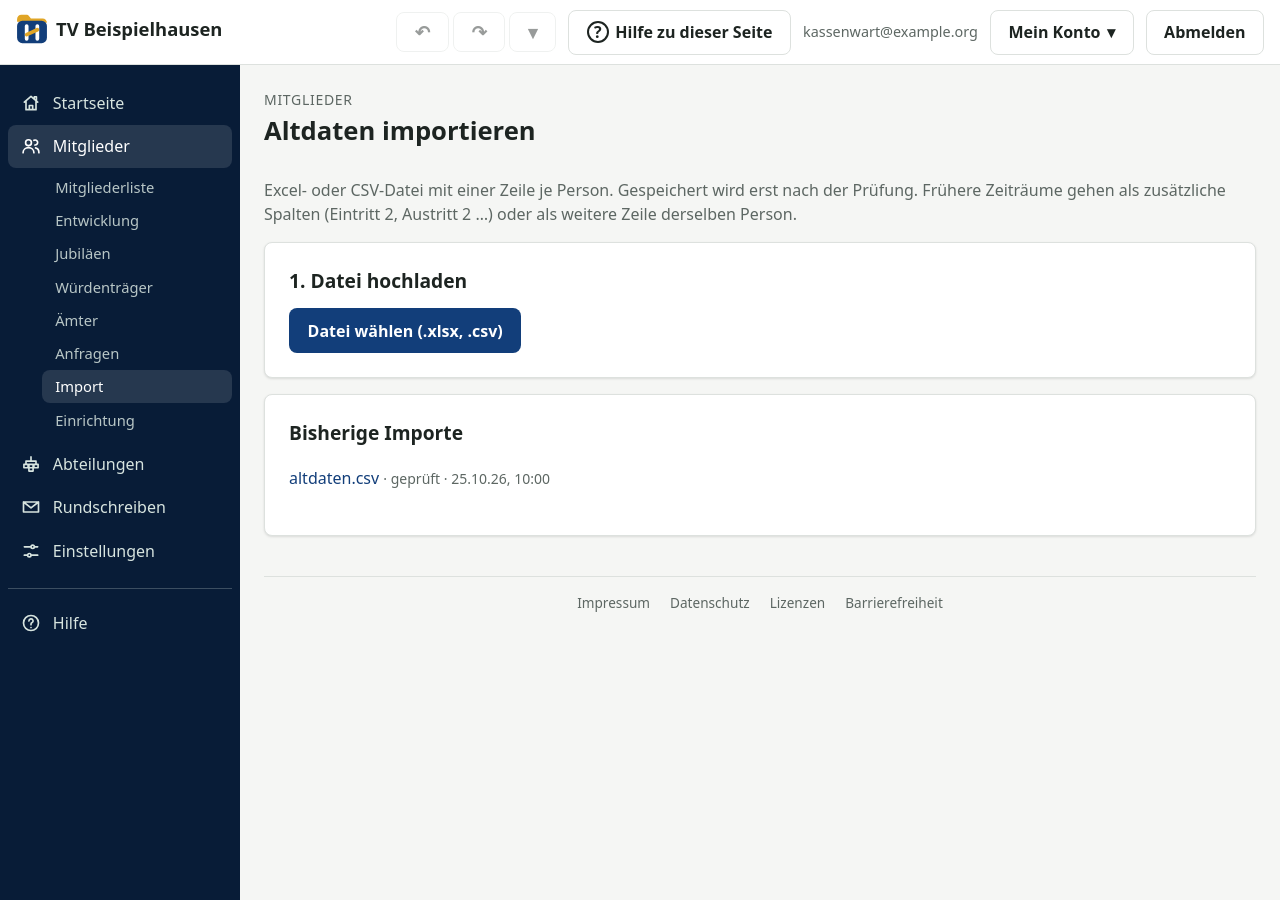
Test: Import › verlangt nach geänderter Zuordnung eine neue Prüfung
Step 1. Click the button "altdaten.csv" → [334, 478], box [289,466,379,490]
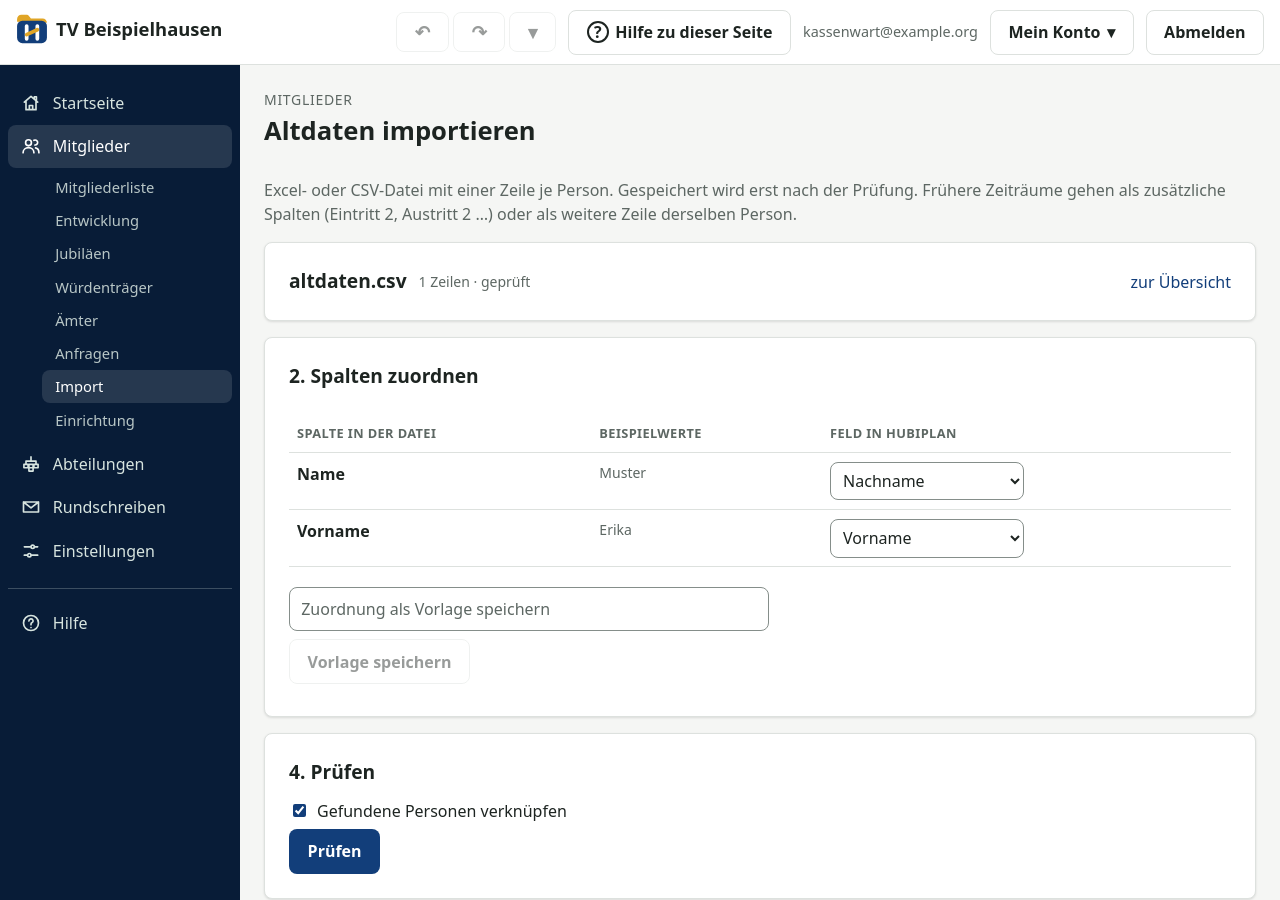
Step 2. Select "Ort" in the dropdown named "Feld für Vorname" → [927, 538], box [830,519,1024,558]
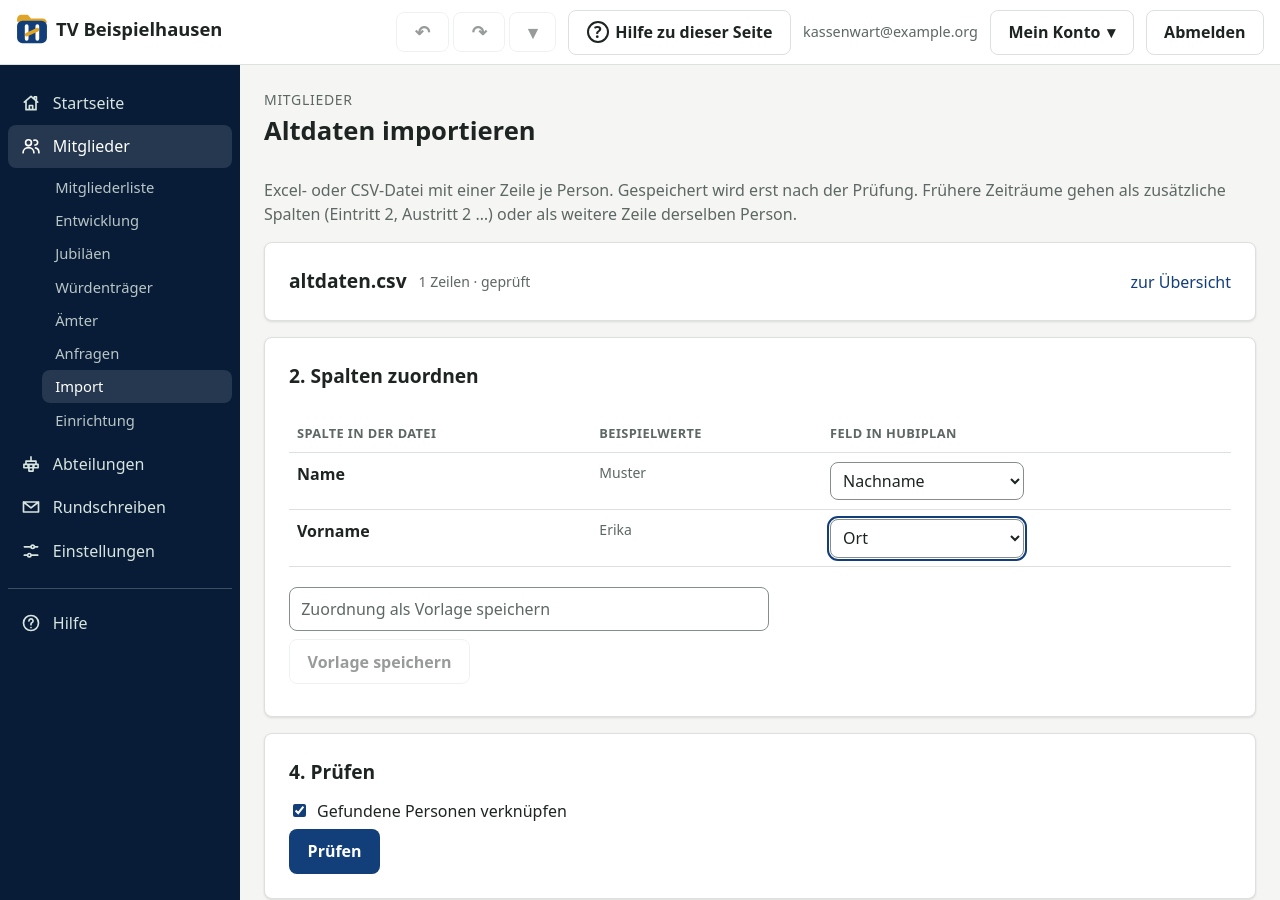
# Zurück auf den geprüften Stand: wieder freigegeben
Step 3. Select "Vorname" in the dropdown named "Feld für Vorname" → [927, 538], box [830,519,1024,558]
(page scrolled)
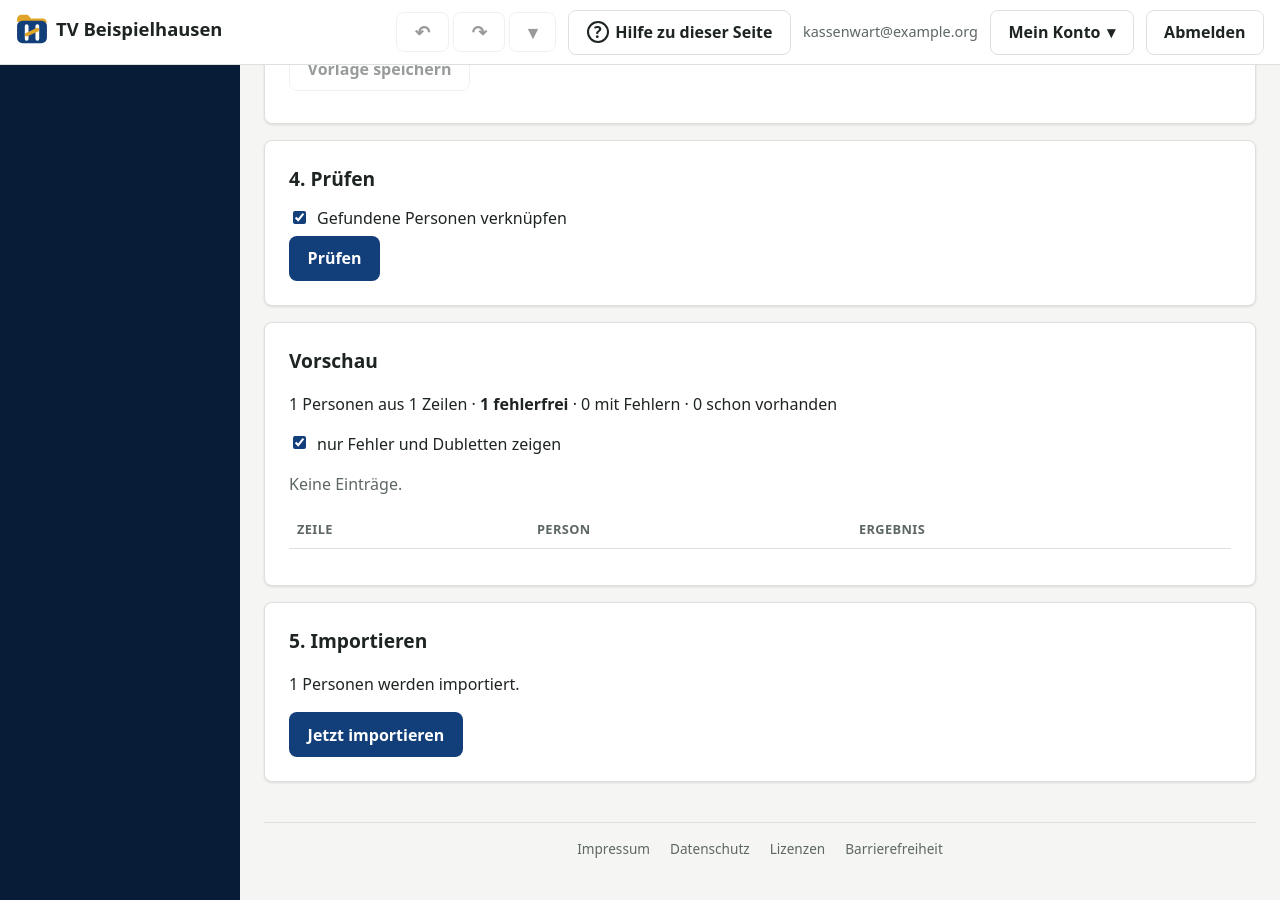
Result: the button "Jetzt importieren" is enabled at [289,712,463,757]
